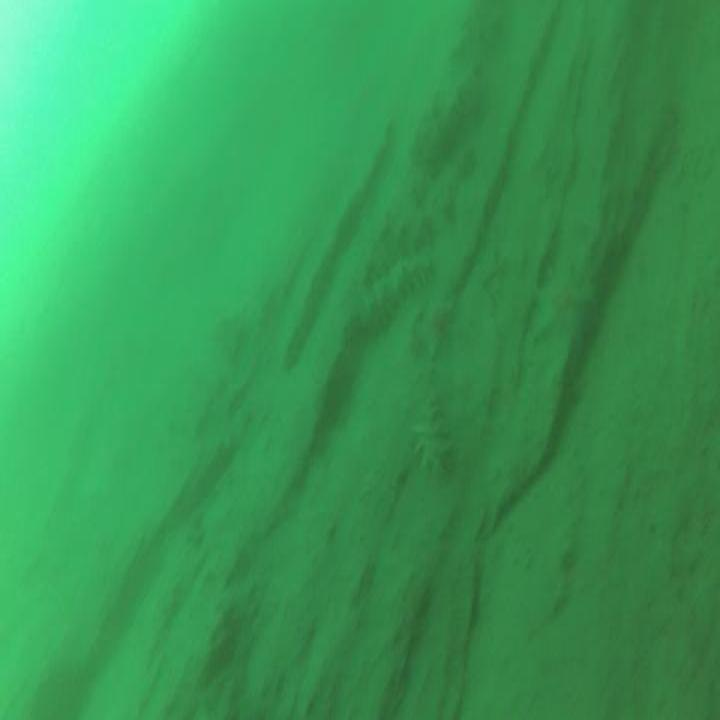holothurian: (403, 329, 456, 485), (348, 249, 434, 320)
